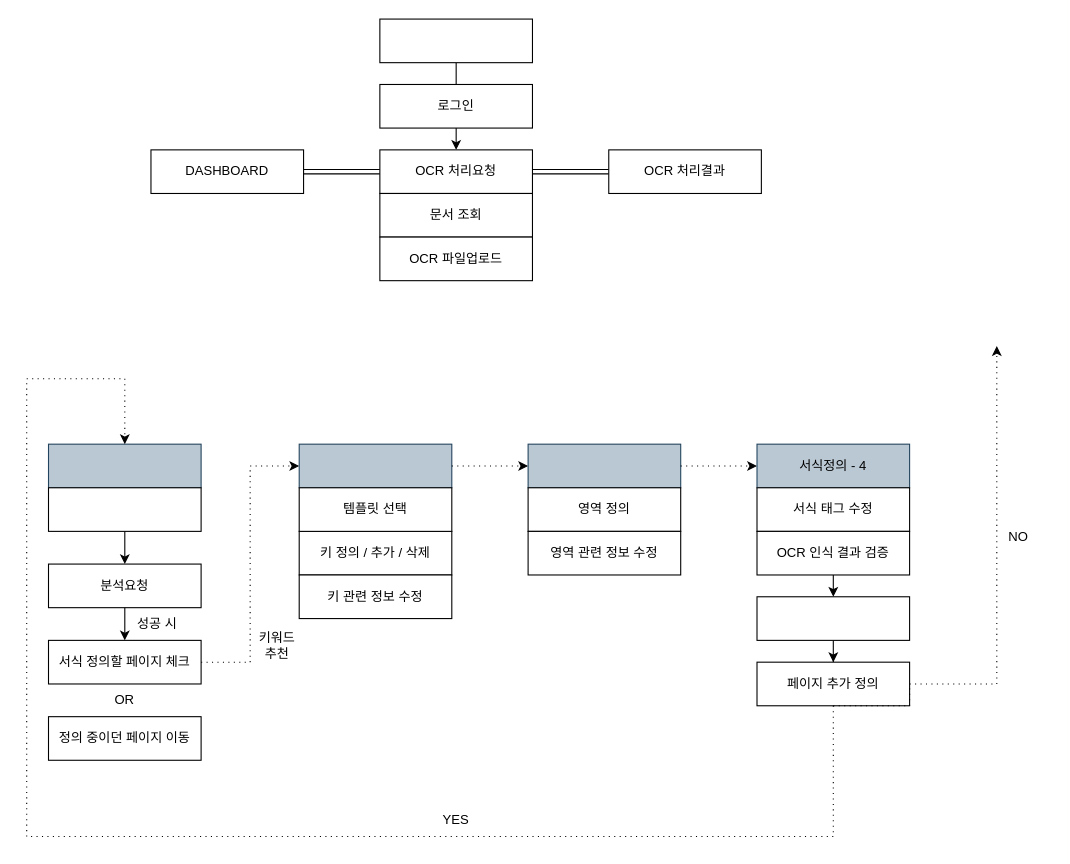
The diagram is 1070 pixels wide and 864 high, and some of its shapes have lost their labels. The shapes that lost their labels are listed below. From the top down, each one's centre as x and y in pixels, then its label:
At (x=455, y=40): "로딩".
At (x=124, y=465): "서식정의 - 1".
At (x=375, y=465): "서식정의 - 2".
At (x=604, y=465): "서식정의 - 3".
At (x=124, y=509): "파일 업로드 (2개 이상)".
At (x=833, y=618): "확인".
